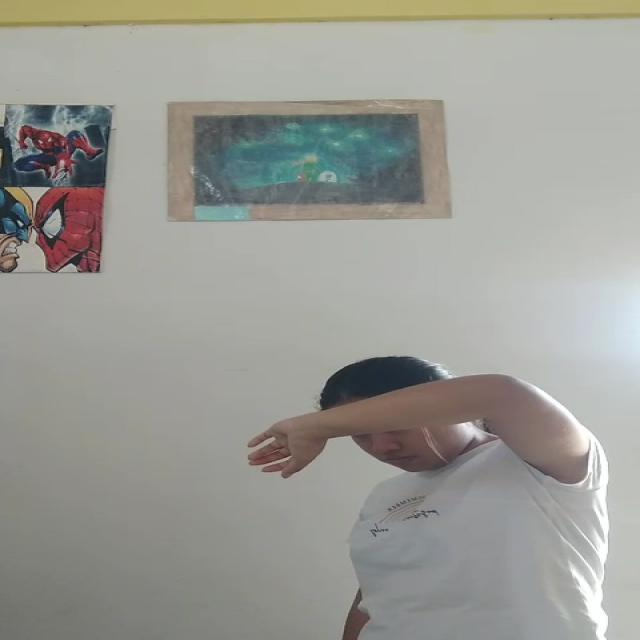7_mano_rostro: (327, 375, 522, 444)
